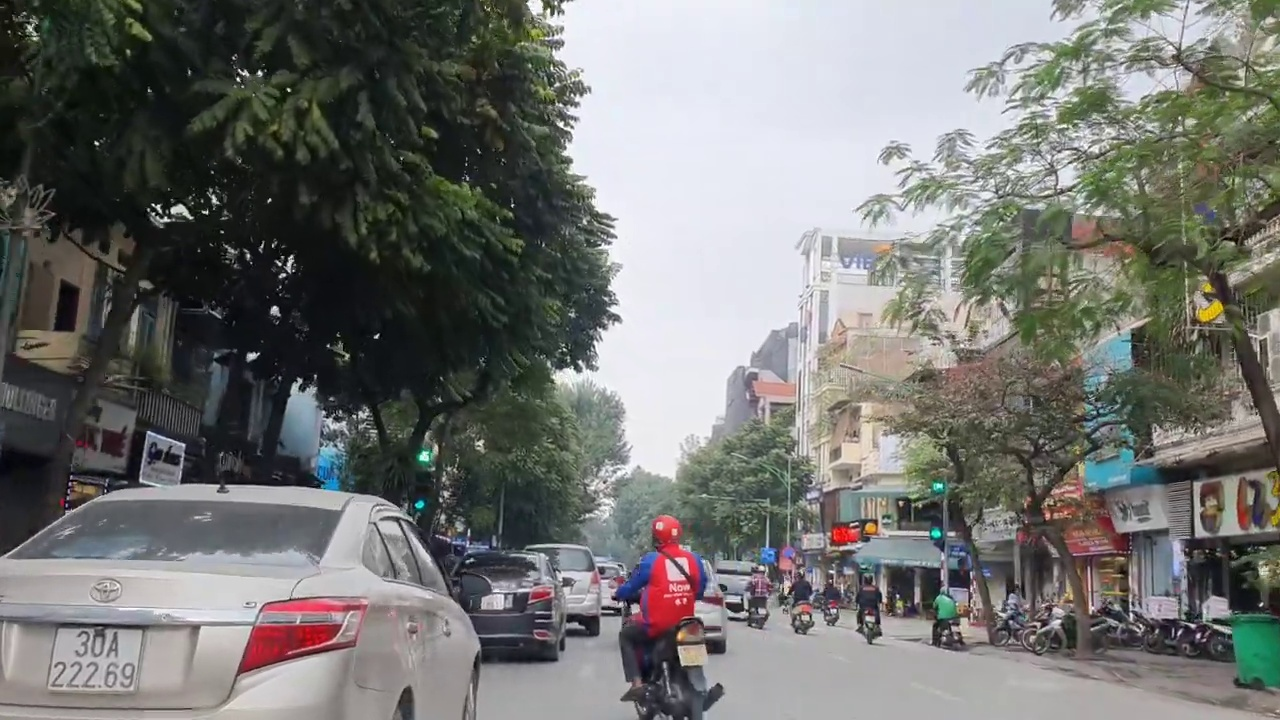vehicle-plate: (675, 643, 710, 668)
